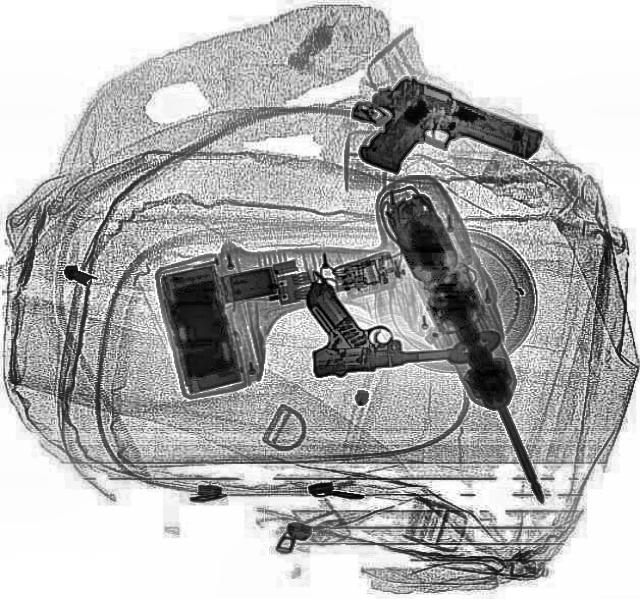Gun: (340, 64, 548, 214), (299, 266, 493, 377)
